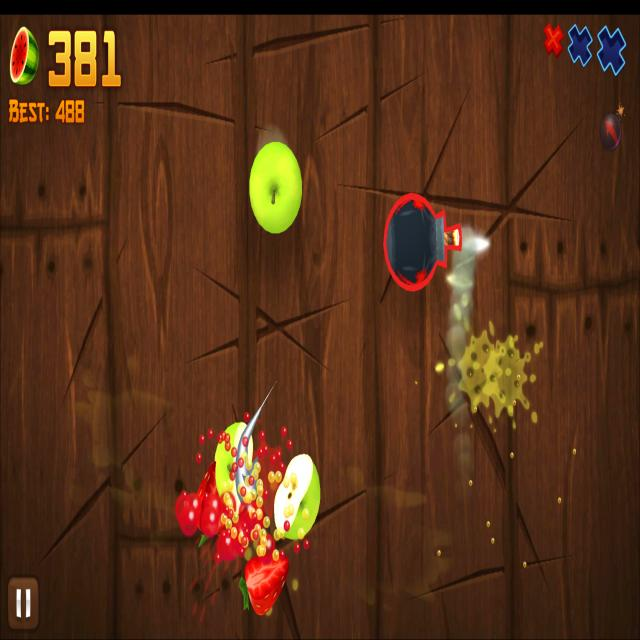bomb: (382, 192, 462, 293)
fruit: (248, 140, 302, 234)
